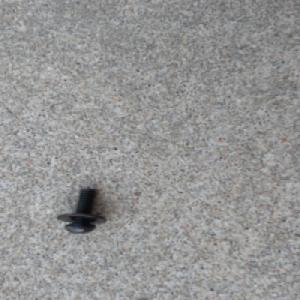BoltWasher: (56, 188, 108, 233)
